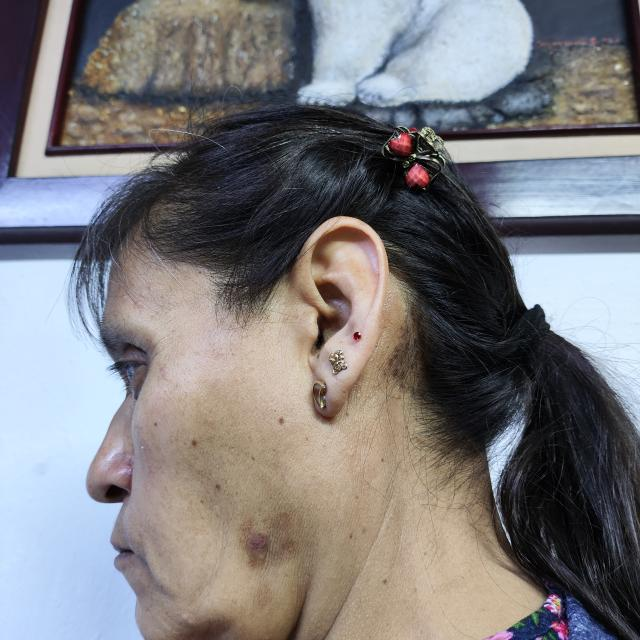ear: (289, 218, 389, 418)
